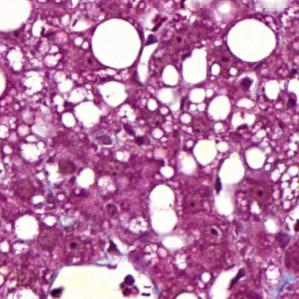steatosis: (89, 15, 148, 69), (221, 16, 278, 64)
